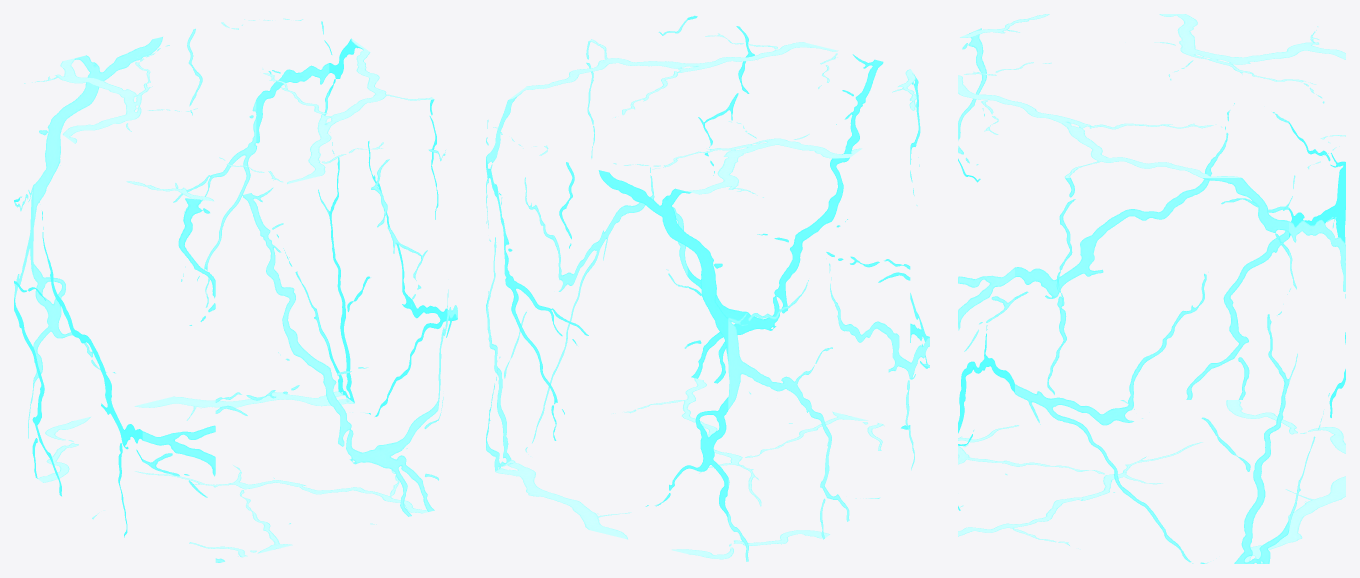
Rendered from finalBoss-lightningCube.glb.
The picture shows the model from 3 angles, left to right: view 1: azimuth 30°, elevation 25°; view 2: azimuth 150°, elevation 25°; view 3: azimuth 270°, elevation 25°; orthographic projection. The views are drawn at different scales.
Parts seen in each view (by area): view 1: finalBoss-lightningCube; view 2: finalBoss-lightningCube; view 3: finalBoss-lightningCube.
Boxes of the visible parts, x1,y1,x2,y2 form: finalBoss-lightningCube: (14, 18, 457, 562); finalBoss-lightningCube: (486, 15, 929, 561); finalBoss-lightningCube: (958, 14, 1345, 563).
Bounding box in the file's own units: 1.3 × 1.42 × 1.3.
1 material, 1 textured.
